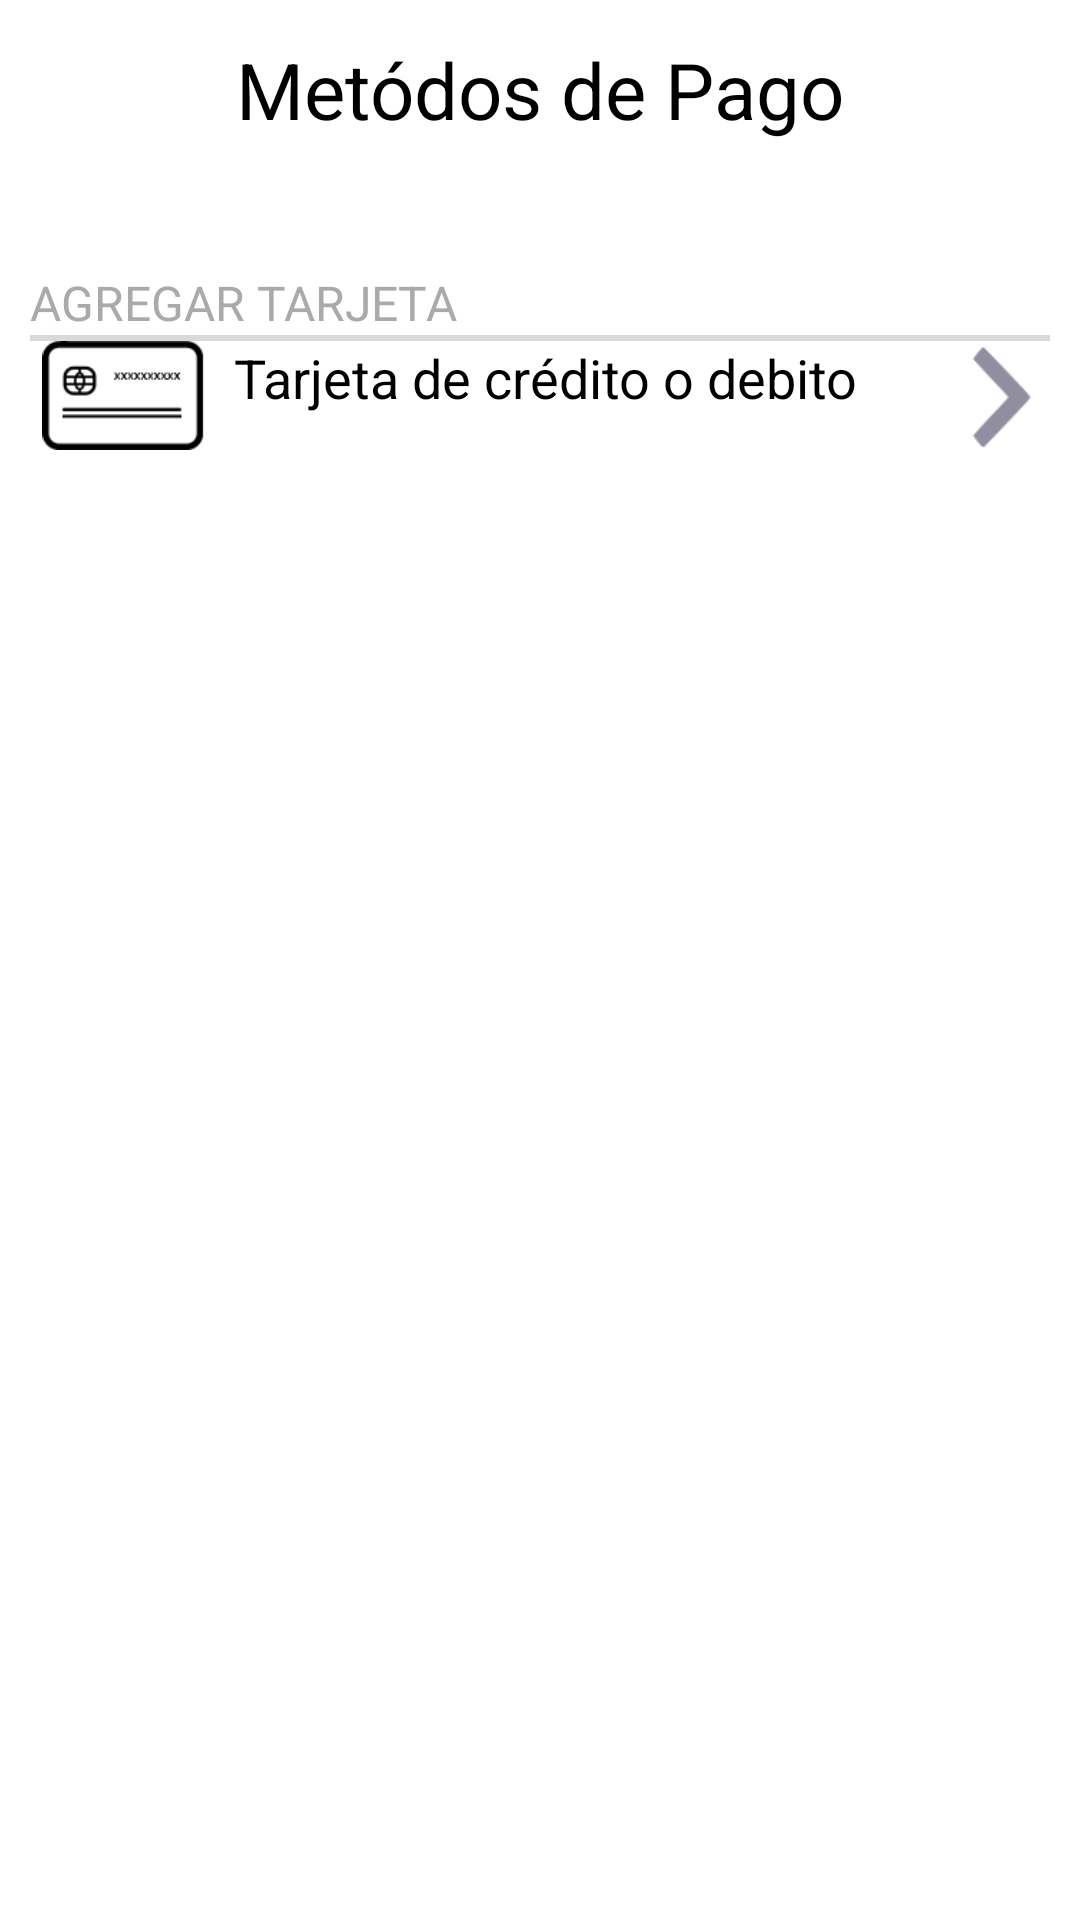

Point at icon controls on the screen. Image size 1080x1920, points as (x=x, y=y).
arrowdisc: (x=1002, y=397)
card: (x=123, y=395)
